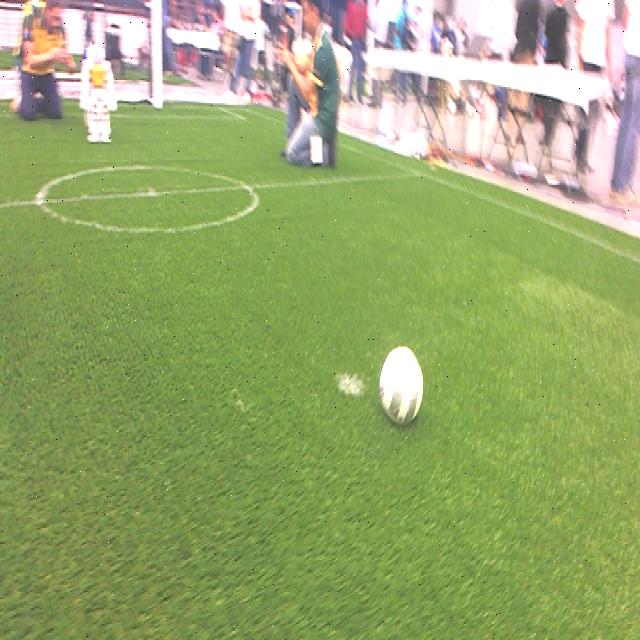ball: (381, 345, 425, 425)
goalpost: (153, 4, 162, 103)
